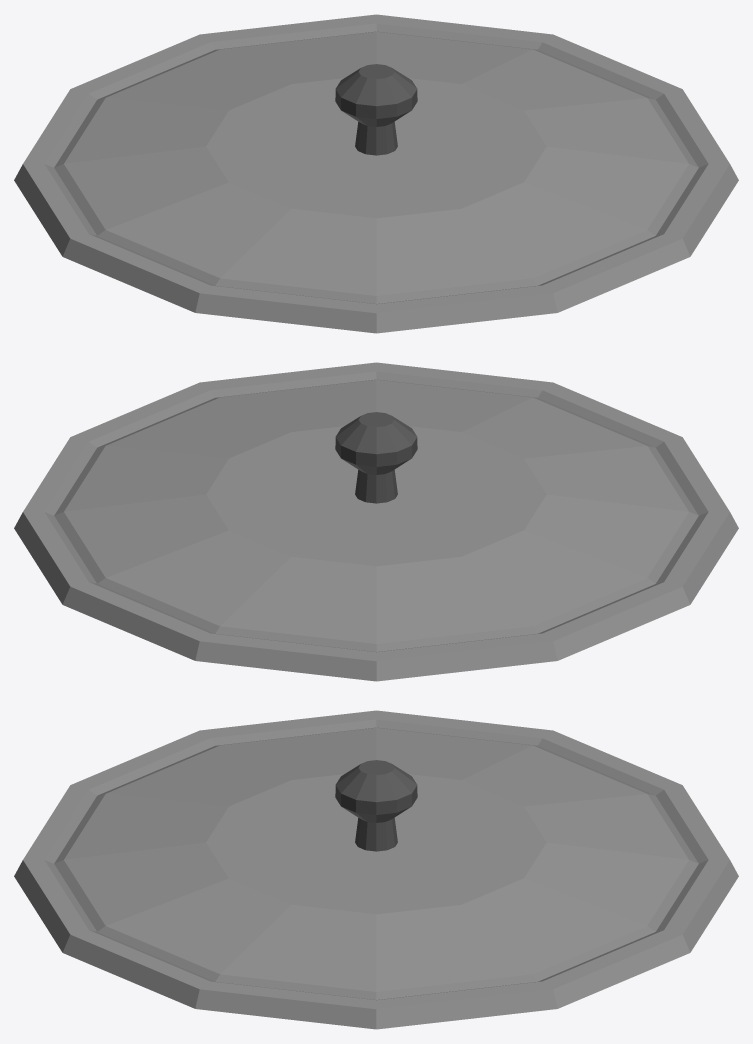
File: PanPart_04_C1.fbx
3 renders of one model, top to bottom at view 1: azimuth 30°, elevation 25°; view 2: azimuth 150°, elevation 25°; view 3: azimuth 270°, elevation 25°, orthographic.
Parts seen in each view (by area): view 1: PanPart_04_C1; view 2: PanPart_04_C1; view 3: PanPart_04_C1.
Boxes of the visible parts, bbox=[...] form: PanPart_04_C1: bbox=[14, 14, 738, 333]; PanPart_04_C1: bbox=[14, 362, 738, 681]; PanPart_04_C1: bbox=[14, 710, 738, 1029].
Size of the model in its own units: 18.36 by 3.04 by 18.36.
